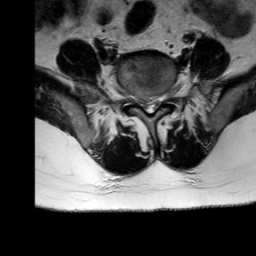CCS_normal: (145, 86, 153, 121)
LFS_normal: (162, 79, 170, 107)
LLS_normal: (153, 85, 162, 115)
RFS_normal: (129, 81, 137, 112)
RLS_normal: (137, 84, 145, 113)
